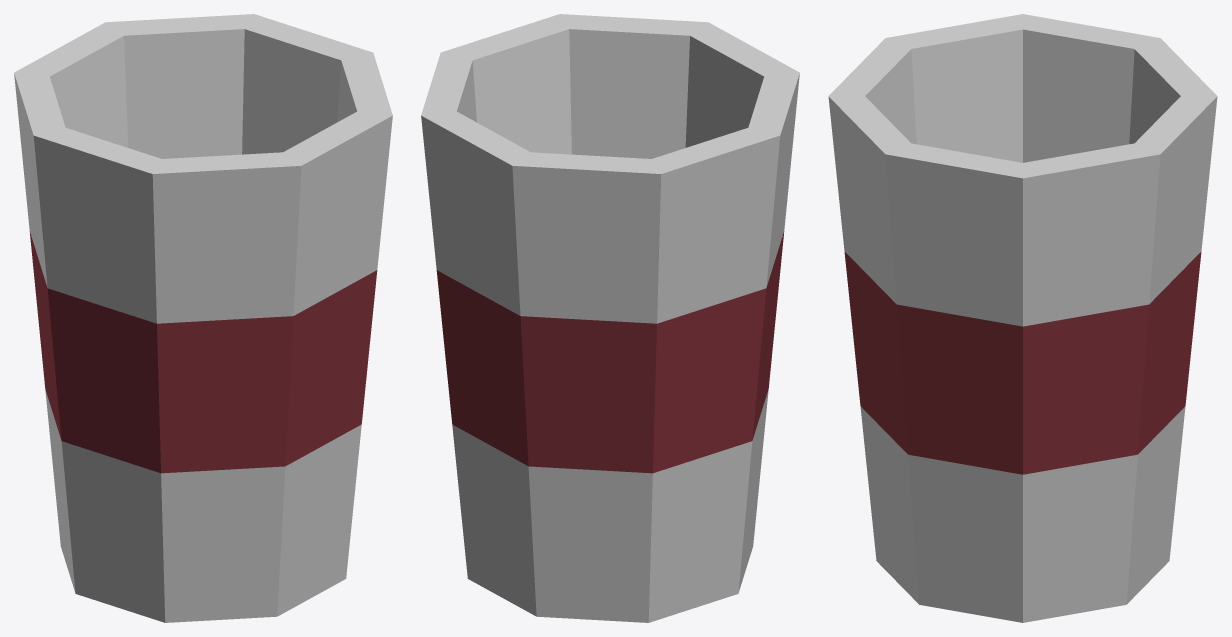
Rendered from EmptyCup.fbx.
3 renders of one model, left to right at view 1: azimuth 30°, elevation 25°; view 2: azimuth 150°, elevation 25°; view 3: azimuth 270°, elevation 25°, orthographic.
Parts seen in each view (by area): view 1: Empty_Cup; view 2: Empty_Cup; view 3: Empty_Cup.
Part boxes in pixels (box(x1,y1,x2,y2)): Empty_Cup: box(14, 14, 392, 622); Empty_Cup: box(421, 14, 799, 622); Empty_Cup: box(828, 14, 1217, 622).
Size of the model in its own units: 10.34 by 13.64 by 10.34.
